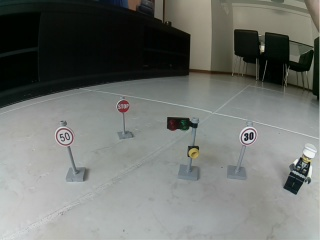Person: (285, 142, 316, 197)
Red Traffic Light: (166, 115, 201, 181)
Speed Limit 30: (239, 127, 257, 147)
Speed Limit 50: (53, 127, 74, 147)
Stop Sign: (116, 99, 131, 114)
